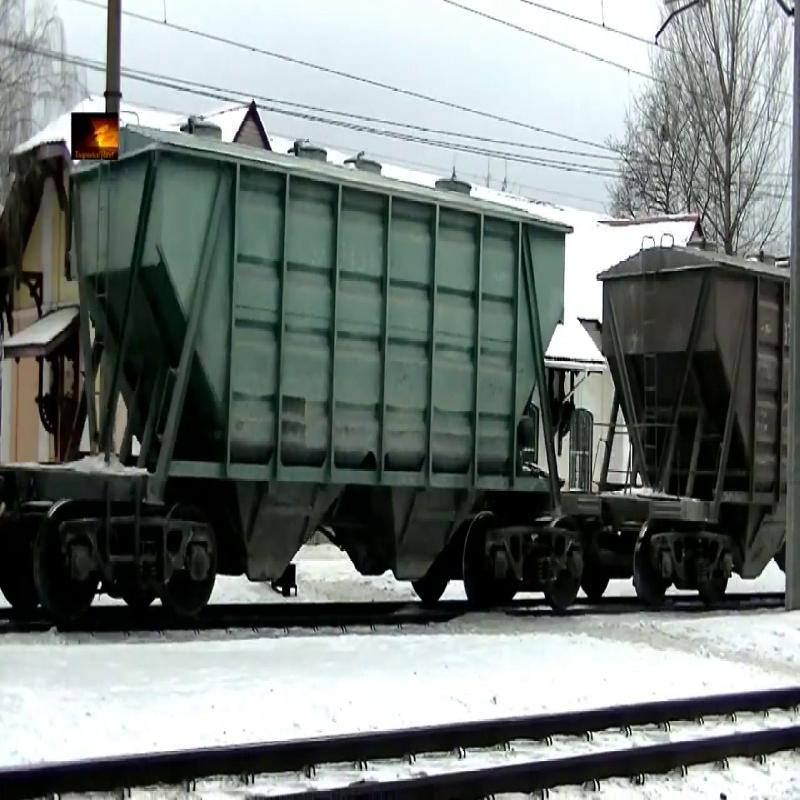train: (52, 129, 588, 614)
